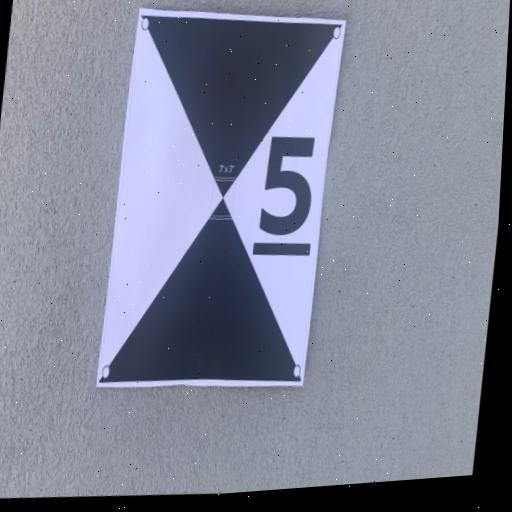target5: (96, 7, 348, 389)
